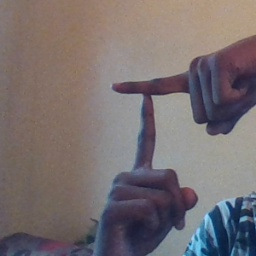T: (103, 64, 207, 184)
